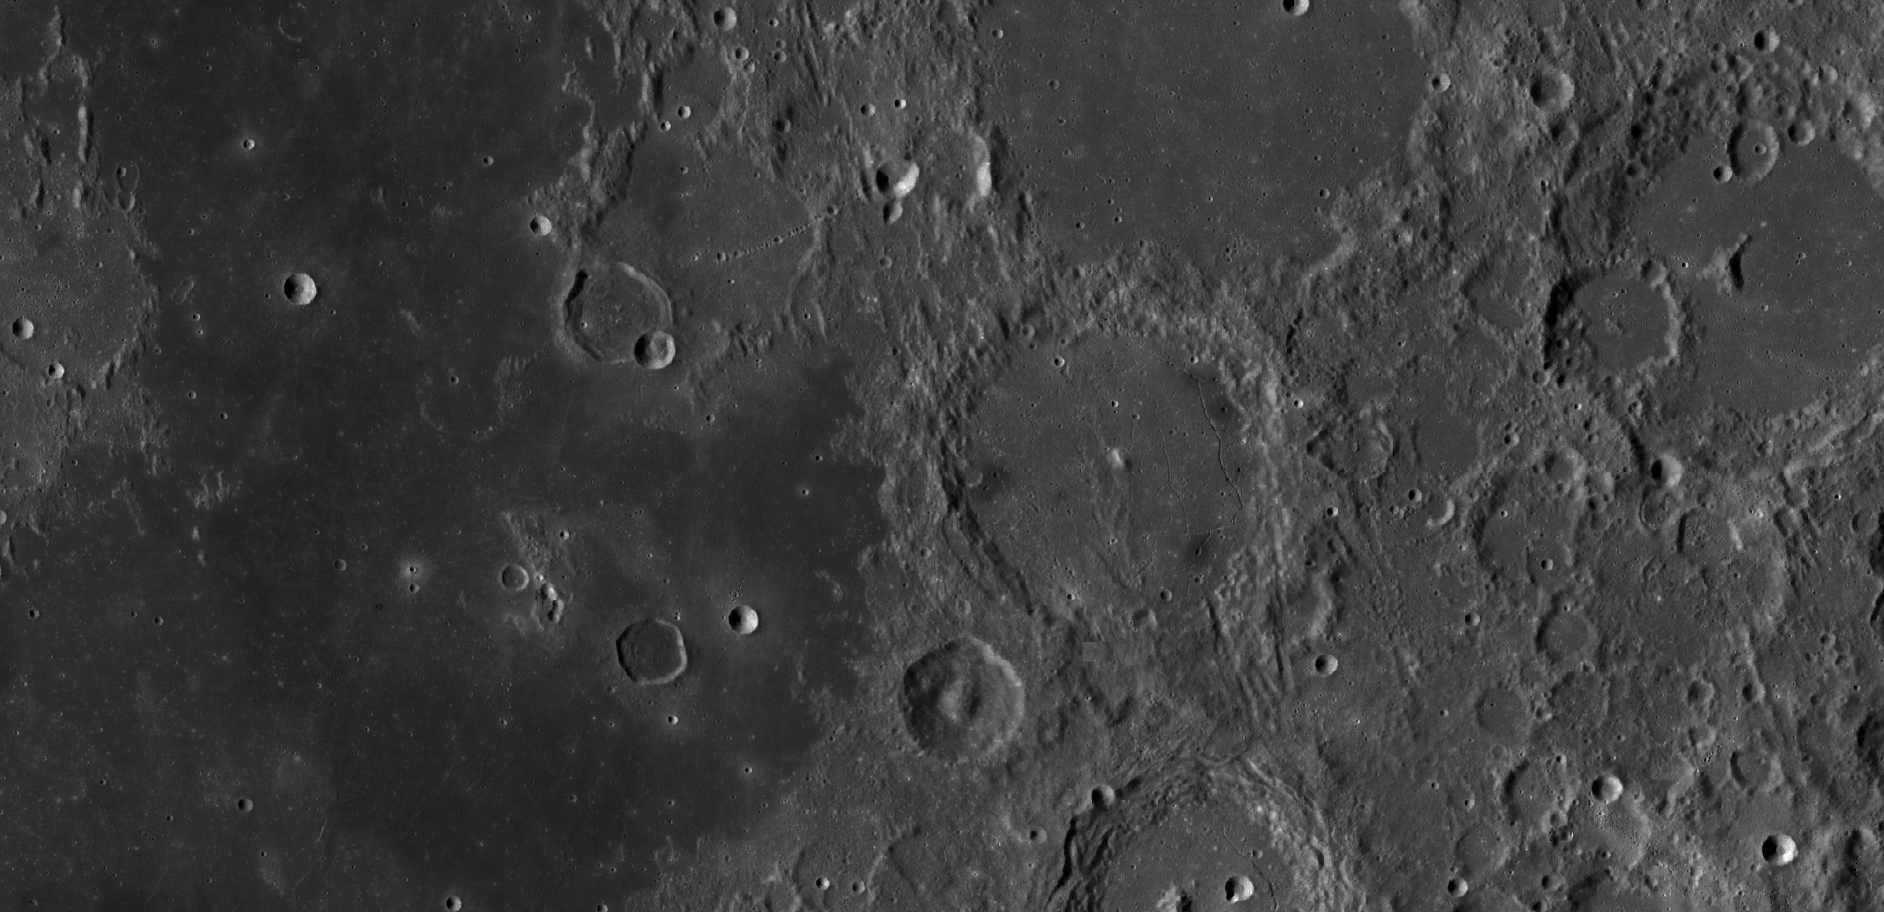crater: (871, 255, 1316, 689), (858, 634, 1049, 783), (1519, 252, 1694, 403), (555, 252, 706, 398), (597, 607, 698, 696), (260, 260, 354, 341), (1747, 815, 1817, 883)
